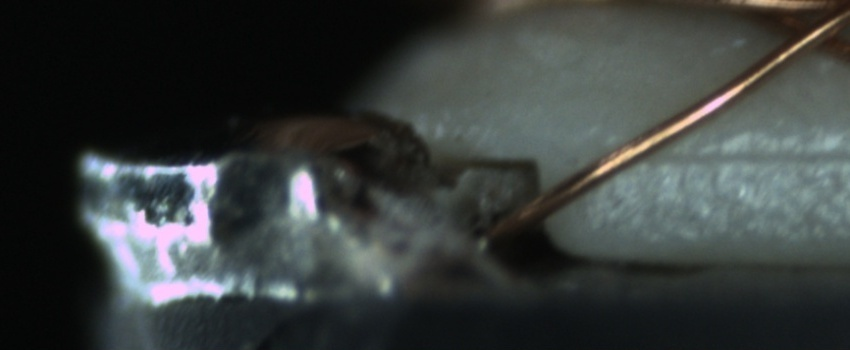CL: (766, 4, 847, 65)
DL: (621, 122, 849, 188)
